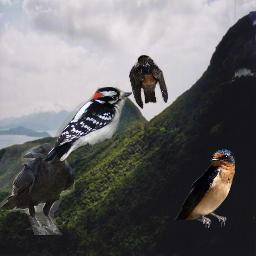Crow: (0, 143, 75, 235)
Swallow: (174, 149, 235, 228), (129, 55, 168, 109)
Woodpecker: (41, 87, 132, 164)
